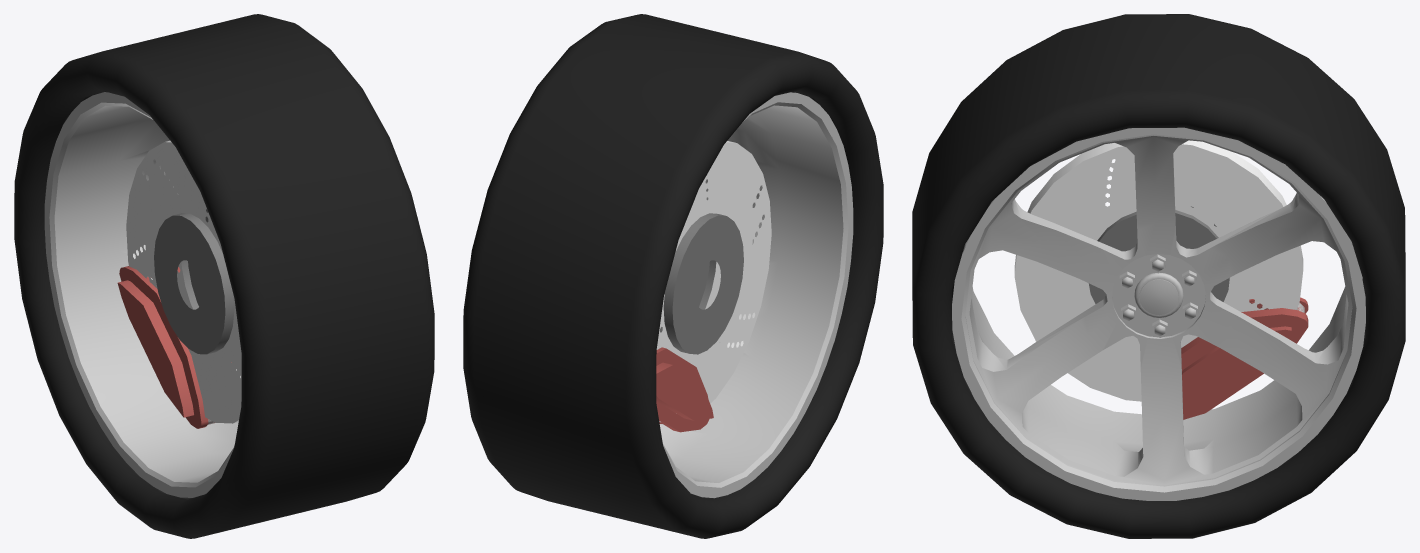
File: challenger2_wheel.glb
3 views of the same model, side by side, from view 1: azimuth 30°, elevation 25°; view 2: azimuth 150°, elevation 25°; view 3: azimuth 270°, elevation 25° (orthographic).
Visible parts, largest first — view 1: convexhull.116_ID720; view 2: convexhull.116_ID720; view 3: convexhull.116_ID720.
Part boxes in pixels (box(x1,y1,x2,y2)): convexhull.116_ID720: box(14, 14, 434, 538); convexhull.116_ID720: box(463, 14, 883, 538); convexhull.116_ID720: box(912, 14, 1405, 538).
Size of the model in its own units: 0.1938 by 0.4417 by 0.4417.
